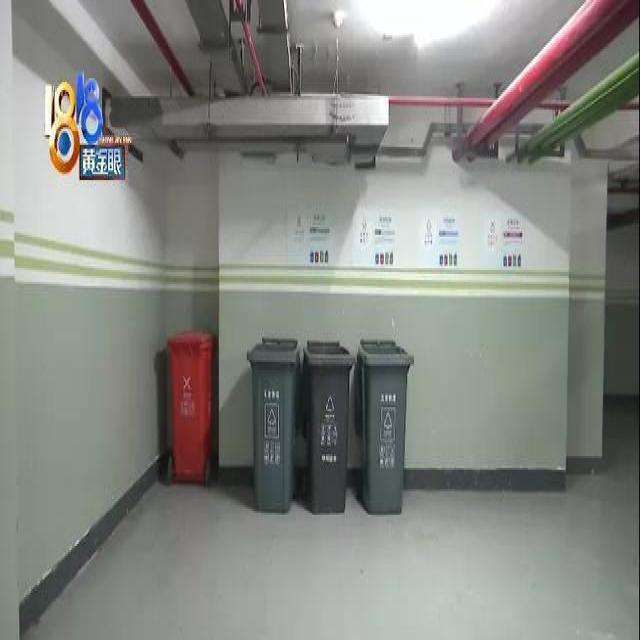garbage_bin: (353, 337, 412, 512), (300, 336, 352, 514), (246, 337, 298, 512), (167, 329, 217, 481)
